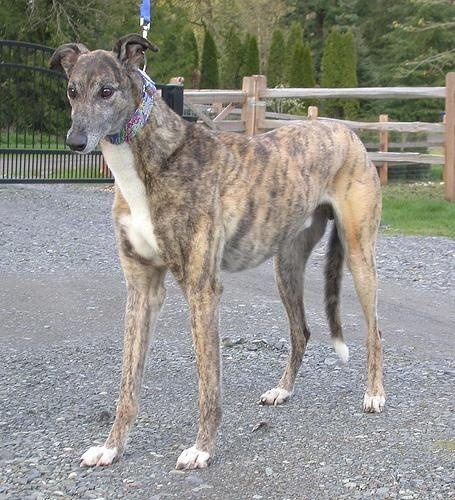dog: (51, 35, 388, 471)
